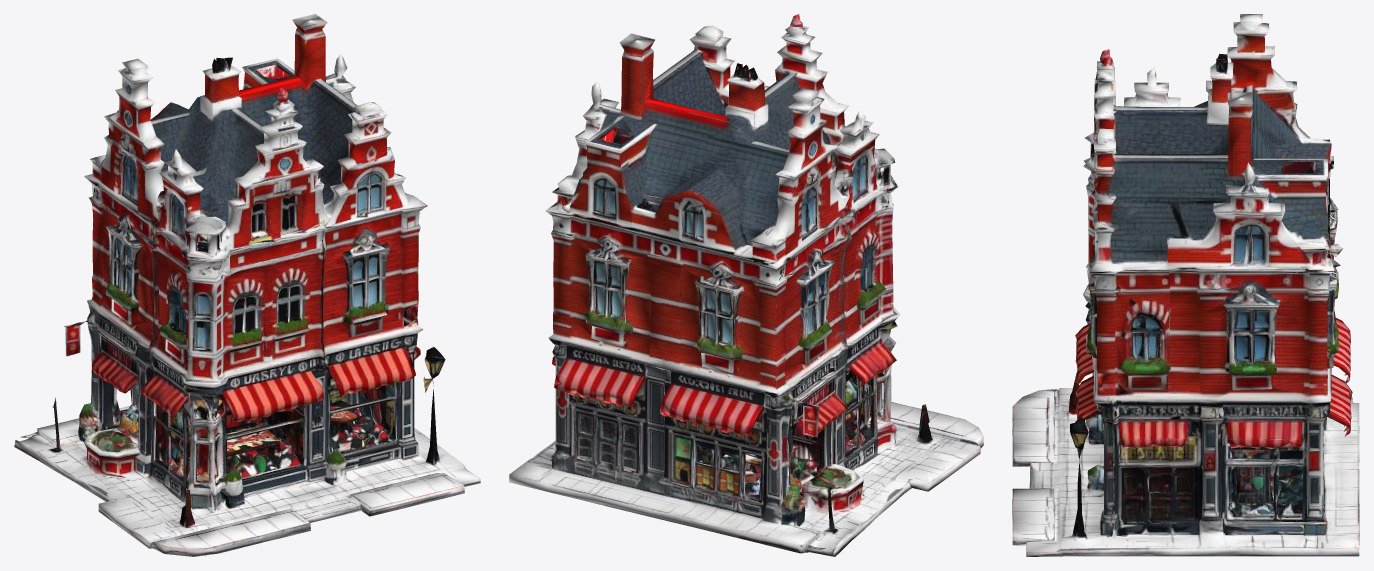
The model's file is housing.glb.
3 renders of one model, left to right at view 1: azimuth 30°, elevation 25°; view 2: azimuth 150°, elevation 25°; view 3: azimuth 270°, elevation 25°, orthographic. The views are drawn at different scales.
Visible parts, largest first — view 1: Mesh_0; view 2: Mesh_0; view 3: Mesh_0.
Boxes of the visible parts, x1,y1,x2,y2 form: Mesh_0: [14, 14, 480, 556]; Mesh_0: [509, 14, 983, 556]; Mesh_0: [1012, 14, 1359, 556].
Bounding box in the file's own units: 1.49 × 1.83 × 1.35.
Materials: 1 (1 with a texture image).
